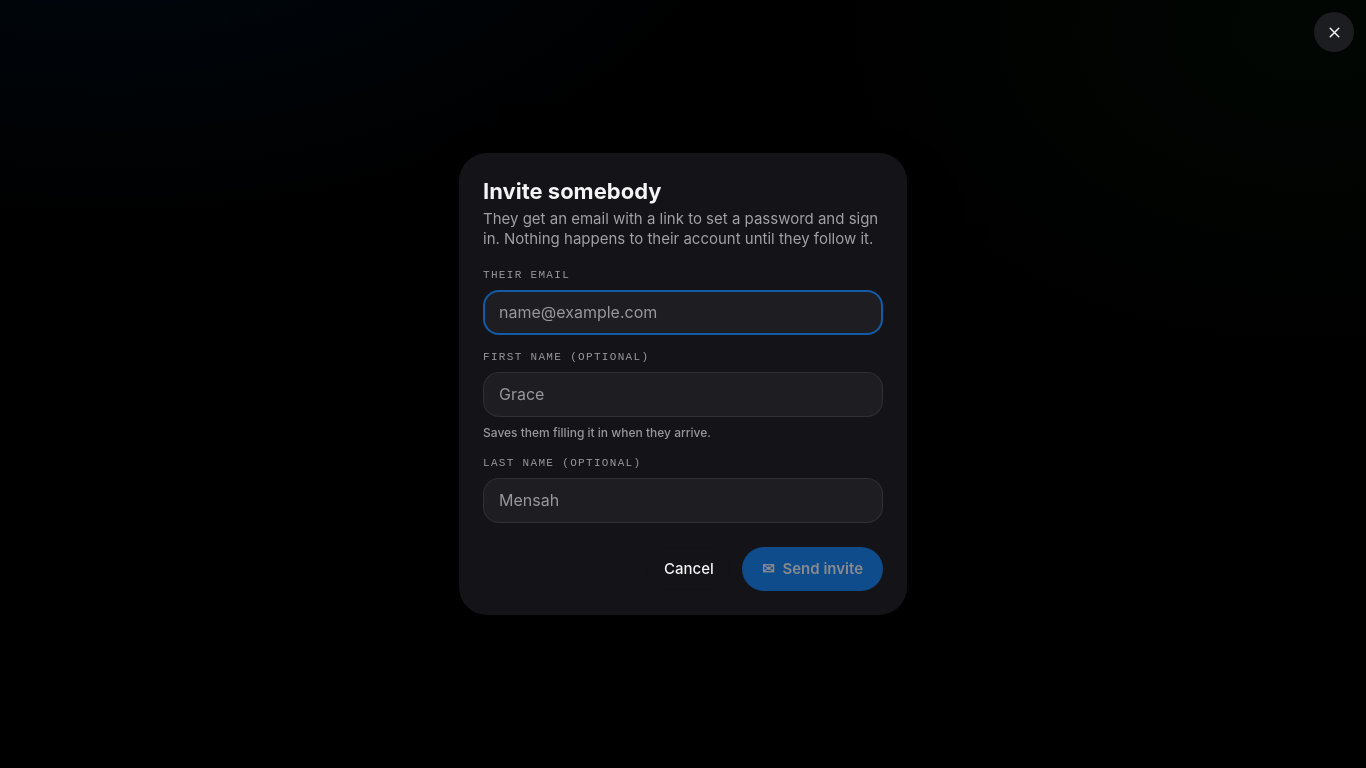
Test: InviteDialog › reports the refusal the function gives, not a shrug
The width and height of the screenshot is (1366, 768).
Type "grace@rehoboth.org" into the field with placeholder "name@example.com".
click(683, 312); type("grace@rehoboth.org")  # box 483,290 -> 883,335
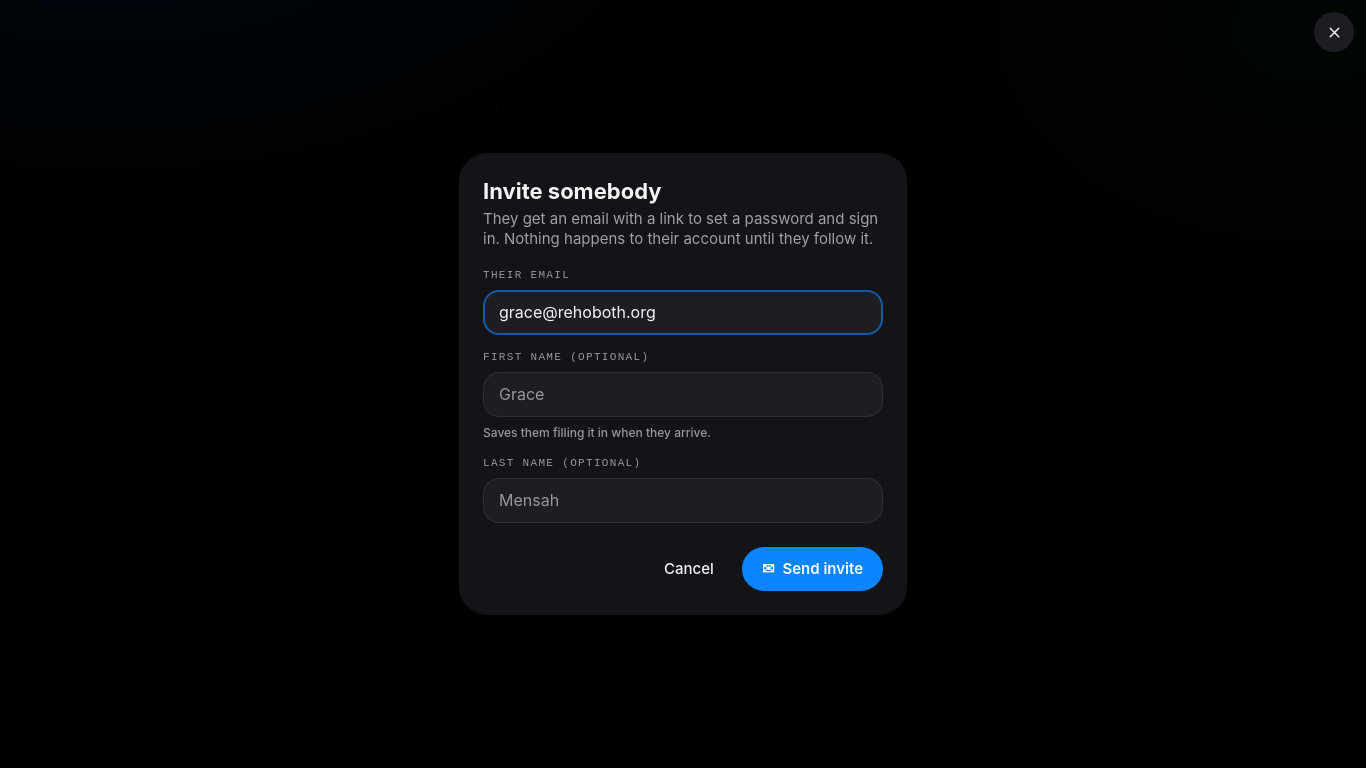
Click the button "✉ Send invite".
click(812, 569)  # box 742,547 -> 883,591
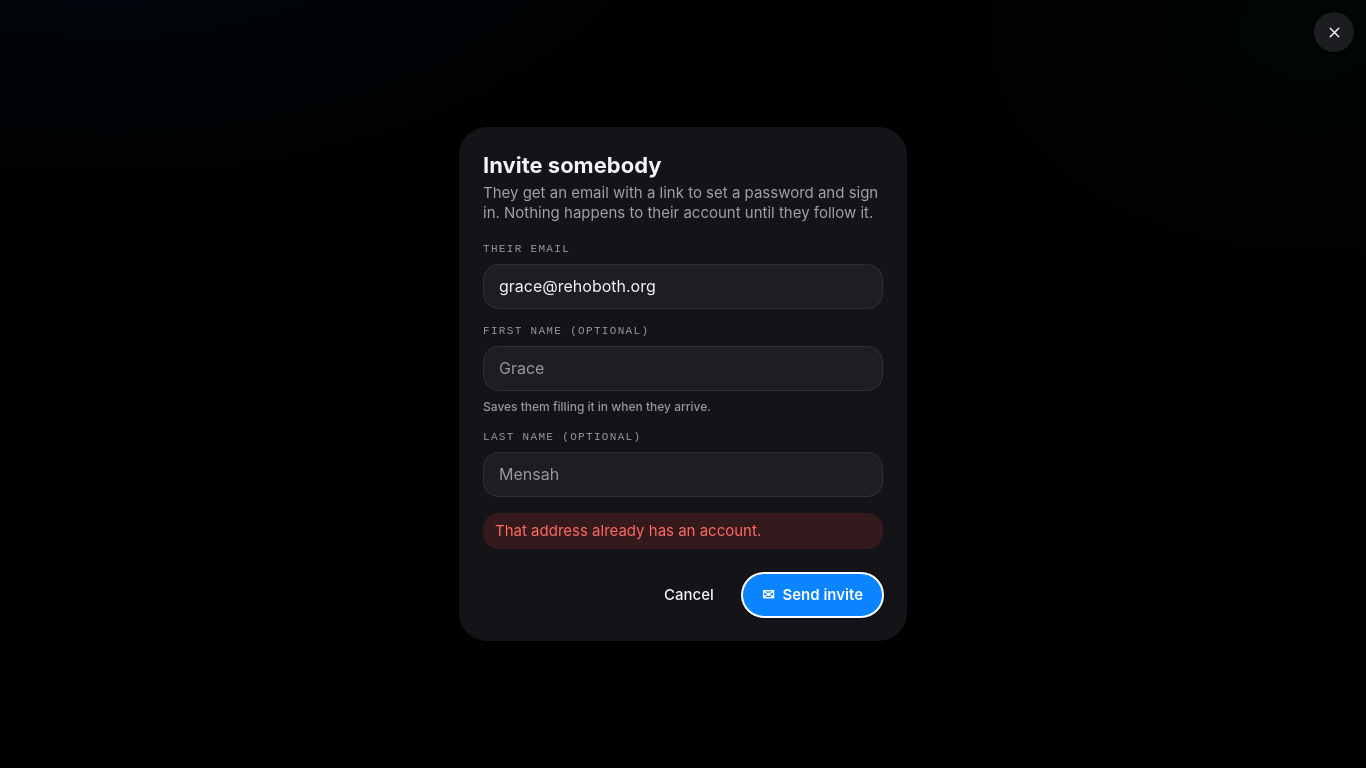
Expected: the text "That address already has an account." is shown, 483,513 -> 883,549
